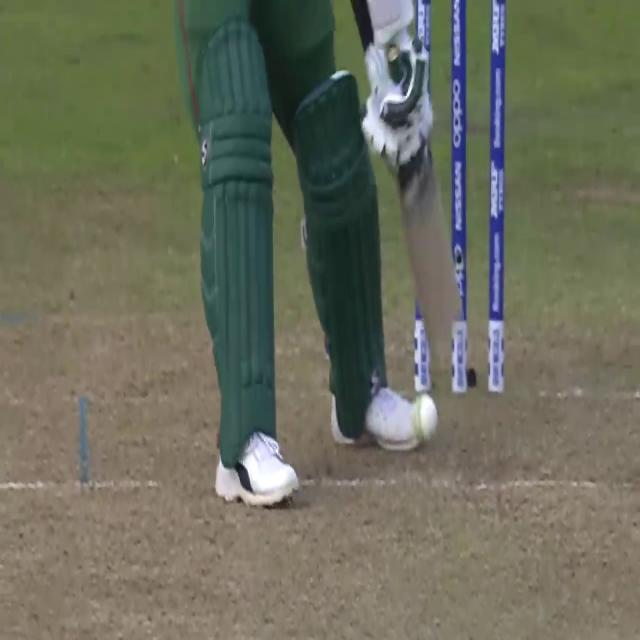ball: (409, 386, 437, 442)
